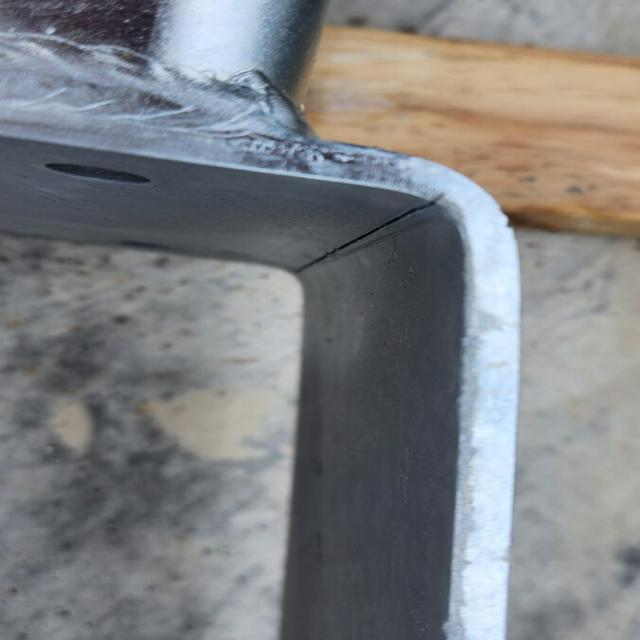Crack: (286, 186, 448, 273)
